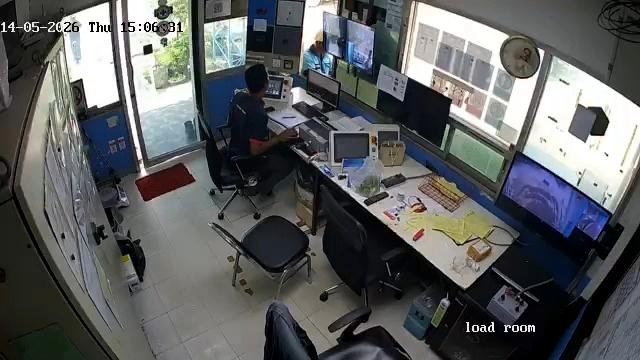Head: (243, 62, 273, 94)
People: (227, 62, 296, 200)
Phone: (264, 106, 276, 113)
